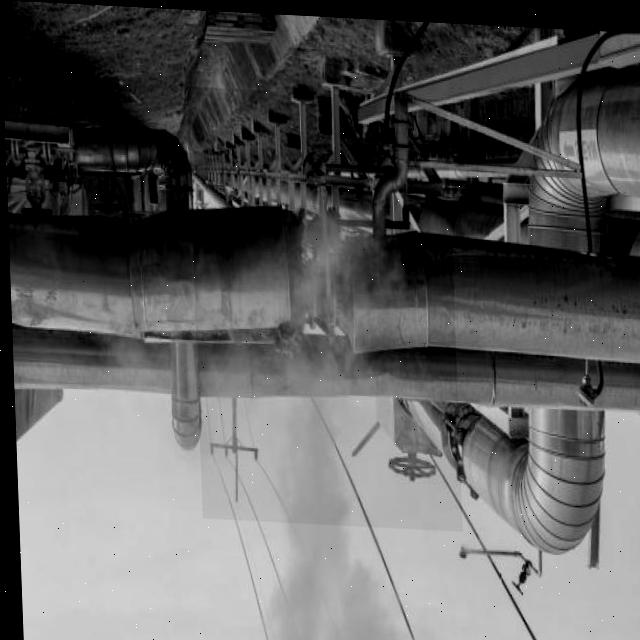corrosion: (223, 249, 365, 458)
